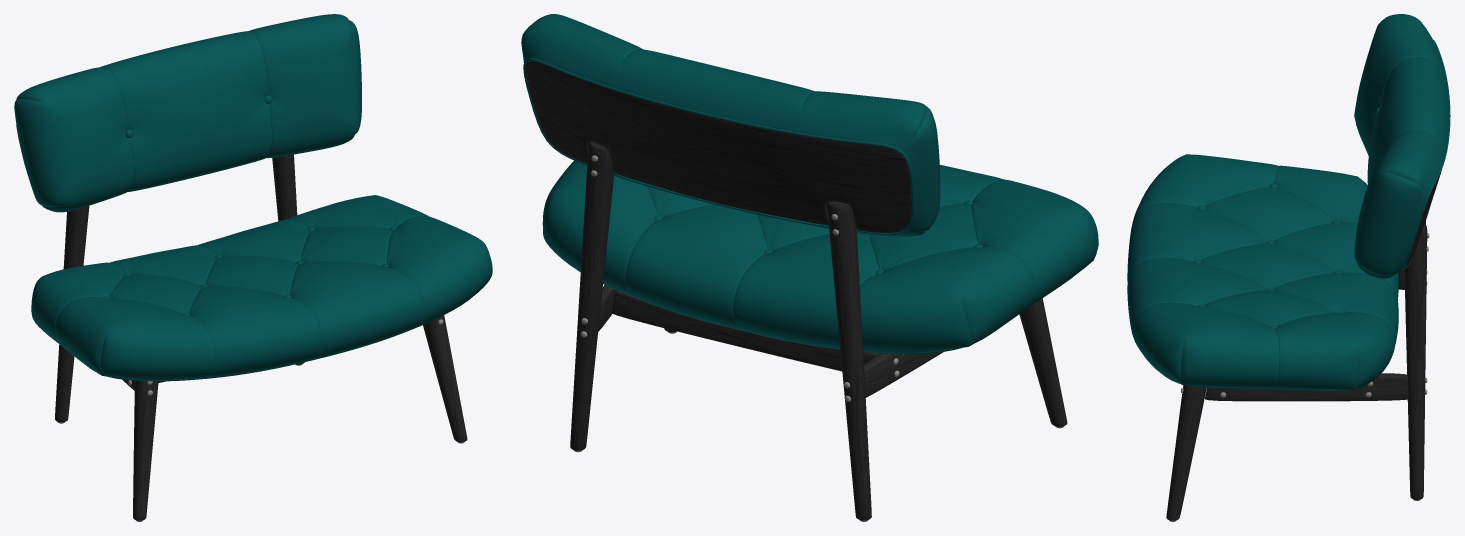
The model's file is poltrona-sheen-azul.glb.
The picture shows the model from 3 angles, left to right: view 1: azimuth 30°, elevation 25°; view 2: azimuth 150°, elevation 25°; view 3: azimuth 270°, elevation 25°; orthographic projection. The views are drawn at different scales.
Parts seen in each view (by area): view 1: SheenChair_fabric, SheenChair_wood; view 2: SheenChair_fabric, SheenChair_wood; view 3: SheenChair_fabric, SheenChair_wood.
Part boxes in pixels (x1=…): SheenChair_fabric: x1=14, y1=14, x2=492, y2=381; SheenChair_wood: x1=55, y1=154, x2=467, y2=520; SheenChair_fabric: x1=521, y1=14, x2=1098, y2=354; SheenChair_wood: x1=525, y1=61, x2=1067, y2=520; SheenChair_fabric: x1=1127, y1=14, x2=1450, y2=391; SheenChair_wood: x1=1166, y1=170, x2=1441, y2=520.
Bounding box in the file's own units: 0.8266 × 0.6862 × 0.5703.
4 materials, 3 textured.
